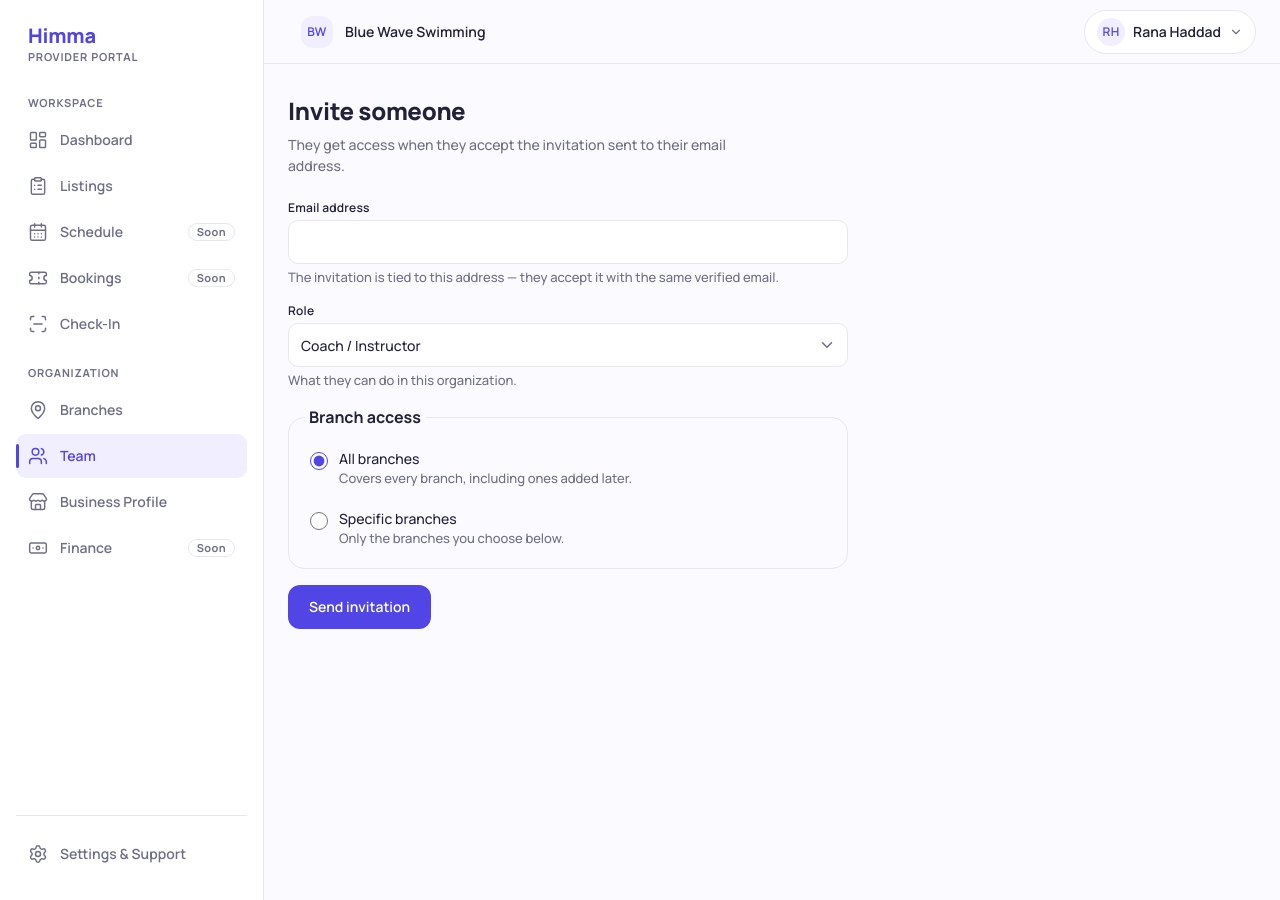
invite workflow (W2-6) › branch-scoped roles choose all-or-specific; the checklist offers ONLY this org’s ACTIVE branches
The image size is (1280, 900).
Select "Branch Manager" in the dropdown labelled "Role". click: (568, 345)
box: [288, 323, 848, 367]
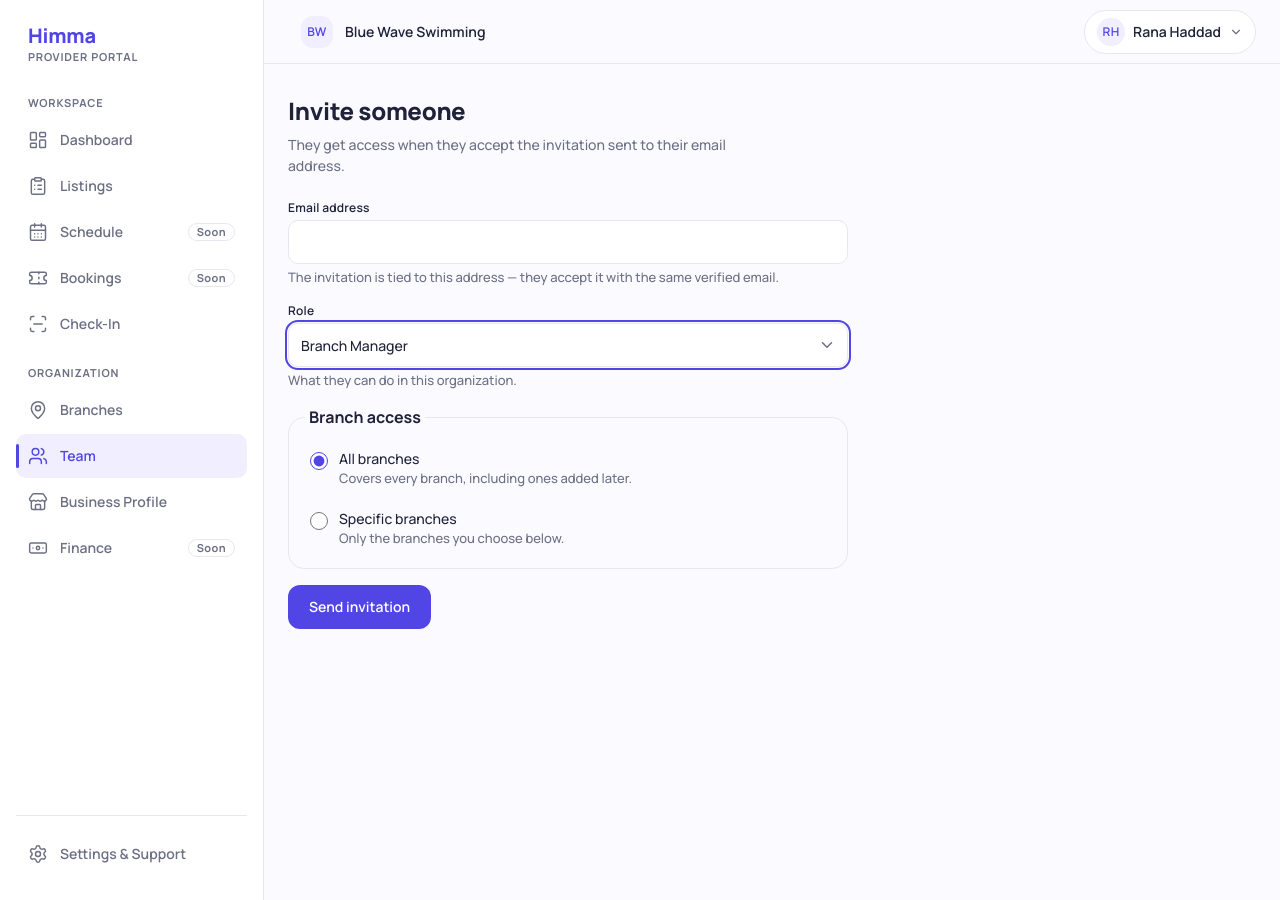
Click the radio button labelled "Specific branches Only the branches you choose below.". click: (319, 521)
box: [310, 512, 328, 530]
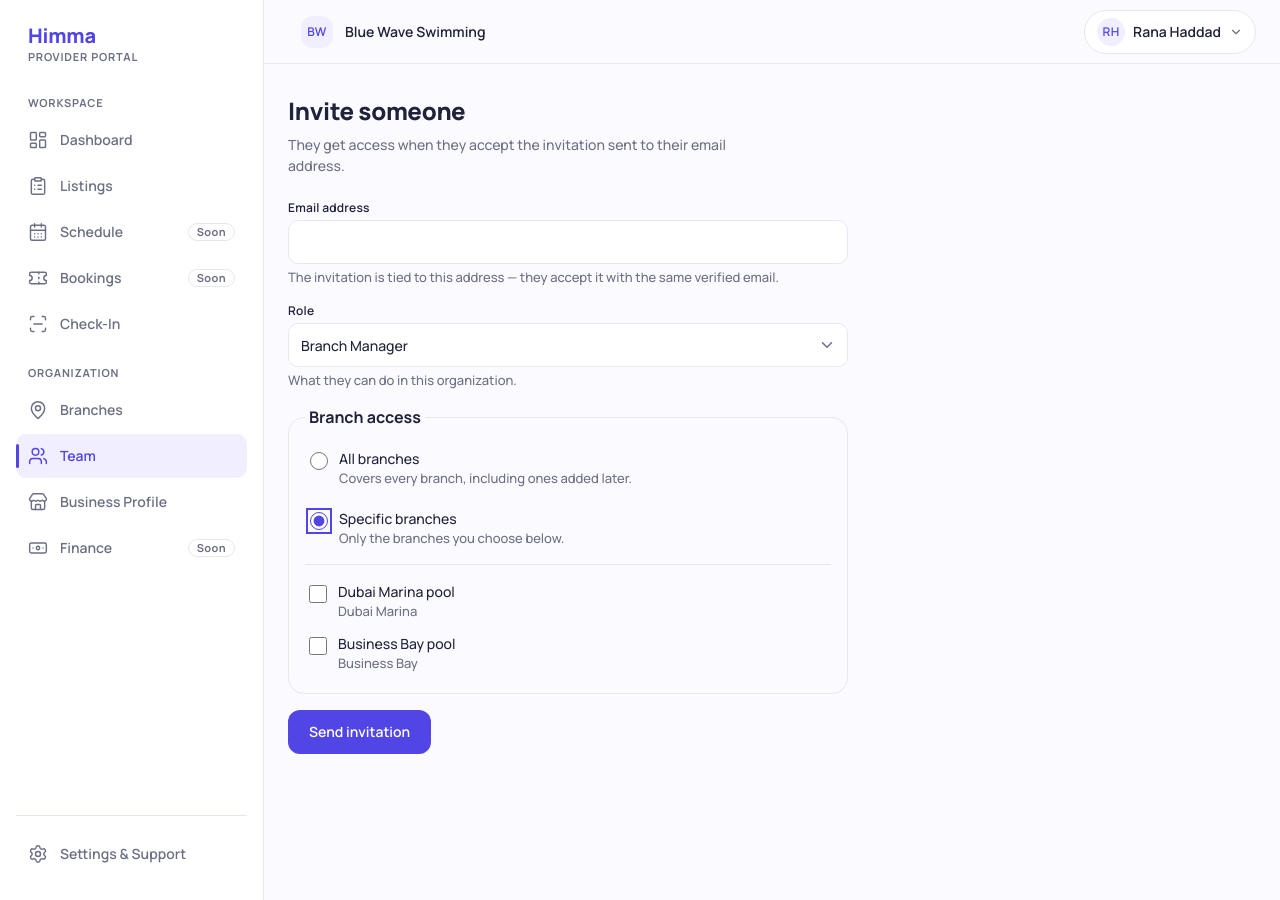
expect the number of checkboxes is 2: met, box [309, 585, 327, 603]; [309, 637, 327, 655]
expect the text "Dubai Marina pool" is shown: met, box [338, 581, 455, 602]
expect the text "Business Bay pool" is shown: met, box [338, 633, 456, 654]
